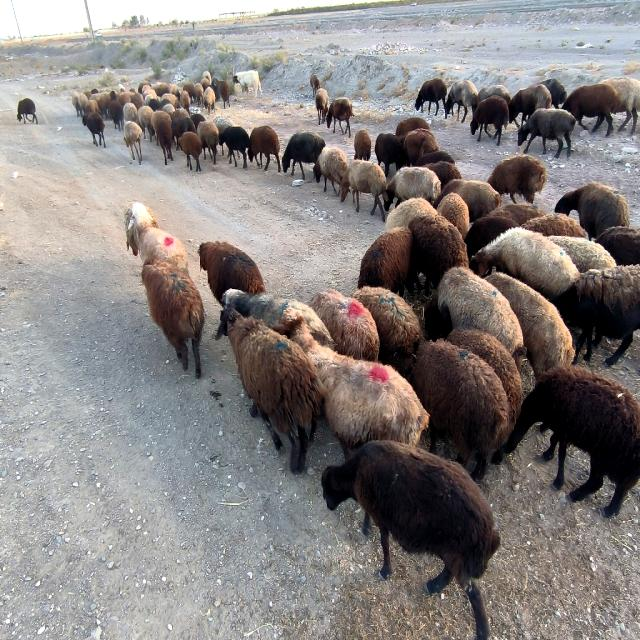sheep: (321, 440, 500, 638), (272, 308, 429, 459), (506, 367, 640, 517), (216, 307, 325, 473), (410, 340, 511, 482), (486, 272, 575, 378), (435, 268, 525, 368), (551, 265, 640, 365), (470, 227, 579, 298), (141, 260, 205, 378), (222, 288, 335, 349), (446, 332, 522, 422), (352, 287, 422, 378), (310, 290, 380, 361), (409, 215, 469, 294), (125, 202, 188, 269), (556, 182, 630, 239), (199, 242, 265, 303), (358, 227, 414, 296), (562, 83, 619, 136), (340, 160, 388, 221), (518, 108, 576, 158), (488, 155, 548, 203), (434, 180, 502, 221), (549, 235, 616, 273), (384, 167, 441, 211), (464, 217, 519, 258), (603, 78, 640, 134), (282, 133, 325, 178), (470, 97, 509, 146), (386, 198, 438, 231), (509, 85, 551, 124), (596, 227, 639, 265), (314, 147, 348, 194), (522, 213, 585, 238), (248, 125, 281, 172), (438, 193, 470, 238), (445, 80, 478, 121), (405, 128, 439, 167), (375, 133, 405, 176), (219, 127, 250, 168), (489, 203, 545, 225), (415, 78, 448, 114), (326, 97, 354, 136), (424, 162, 462, 189), (179, 132, 202, 171), (198, 122, 219, 164), (82, 113, 106, 146), (542, 78, 568, 108), (171, 117, 195, 149), (124, 122, 142, 164), (156, 120, 172, 164), (395, 117, 430, 137), (415, 150, 455, 167), (138, 105, 155, 141), (108, 91, 124, 129), (478, 85, 511, 102), (354, 130, 371, 161), (315, 88, 329, 124), (18, 98, 38, 123), (215, 80, 230, 108), (151, 112, 171, 130), (204, 87, 216, 114), (124, 102, 138, 122), (310, 73, 321, 96), (71, 92, 81, 117), (180, 90, 191, 112), (194, 83, 204, 107), (84, 100, 100, 115), (162, 103, 175, 114)
